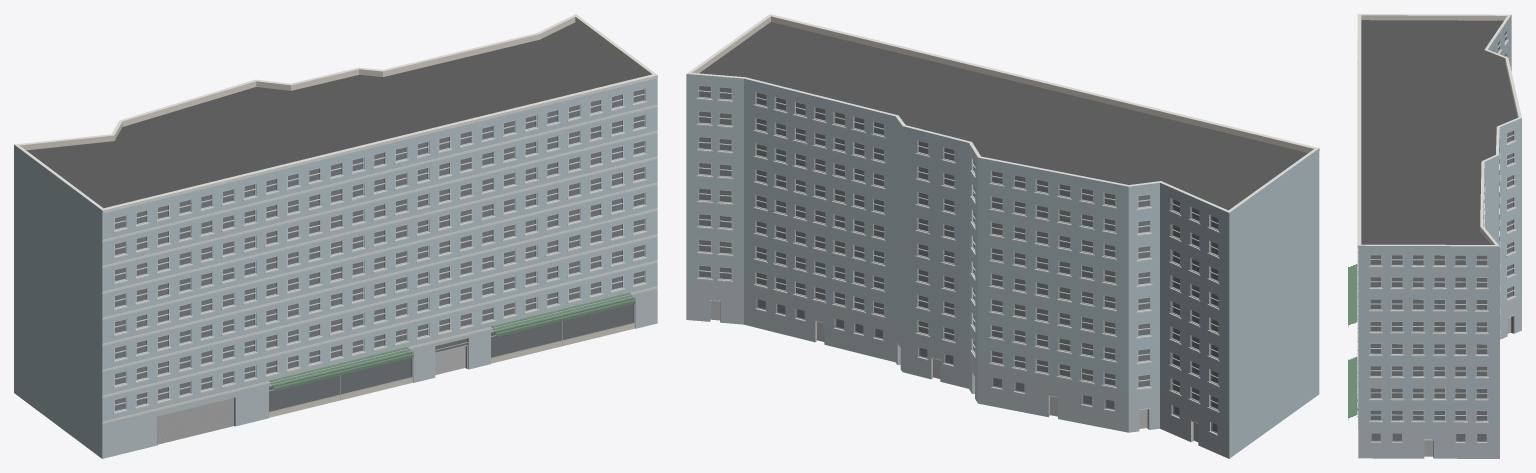
Rendered from exterior.glb.
3 views of the same model, side by side, from view 1: azimuth 30°, elevation 25°; view 2: azimuth 150°, elevation 25°; view 3: azimuth 270°, elevation 25° (orthographic). The views are drawn at different scales.
Parts seen in each view (by area): view 1: shell, roof, glazing, shadow-proxy, frames, relief-10, trim, storefront, awning-spans-10; view 2: shell, roof, glazing, shadow-proxy, frames, trim; view 3: shell, roof, glazing, shadow-proxy, frames, trim, awning-spans-10, relief-10.
Boxes of the visible parts, bbox=[...] form: shell: bbox=[14, 14, 657, 458]; roof: bbox=[26, 22, 646, 208]; glazing: bbox=[115, 89, 643, 411]; shadow-proxy: bbox=[115, 89, 643, 411]; frames: bbox=[114, 88, 644, 412]; relief-10: bbox=[102, 75, 657, 423]; trim: bbox=[113, 101, 646, 413]; storefront: bbox=[157, 297, 634, 444]; awning-spans-10: bbox=[269, 292, 635, 391]; shell: bbox=[686, 14, 1319, 458]; roof: bbox=[699, 22, 1307, 210]; glazing: bbox=[699, 86, 1218, 433]; shadow-proxy: bbox=[699, 86, 1217, 441]; frames: bbox=[698, 85, 1218, 410]; trim: bbox=[696, 98, 1219, 435]; shell: bbox=[1358, 14, 1521, 458]; roof: bbox=[1361, 20, 1517, 244]; glazing: bbox=[1370, 31, 1513, 441]; shadow-proxy: bbox=[1371, 131, 1512, 456]; frames: bbox=[1370, 29, 1514, 421]; trim: bbox=[1357, 39, 1516, 443]; awning-spans-10: bbox=[1348, 264, 1358, 419]; relief-10: bbox=[1357, 14, 1358, 427].
Bounding box in the file's own units: 60.19 × 25.65 × 19.02.
